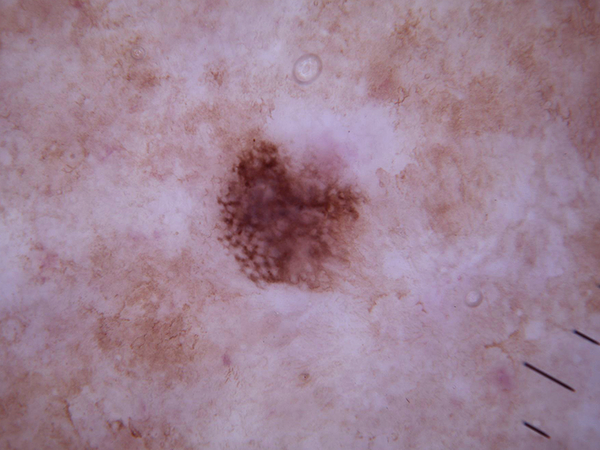Detected Lesion: (214, 136, 370, 296)
